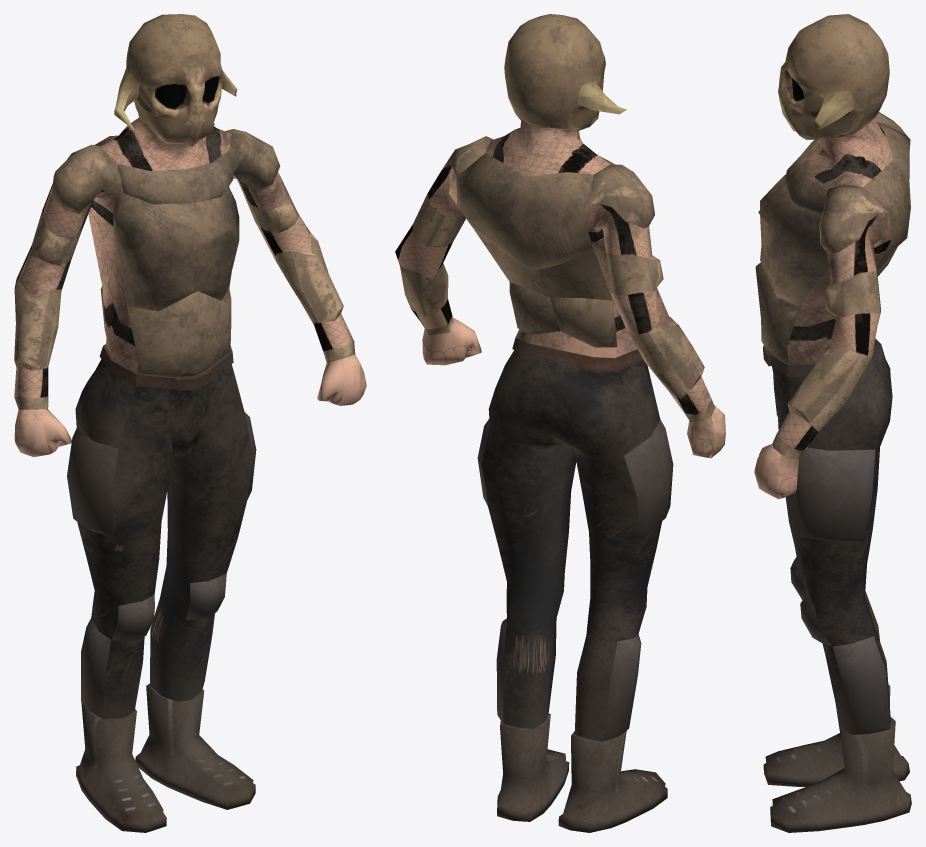
The model's file is Anim_interruptor_npc1.0017.obj.
The picture shows the model from 3 angles, left to right: view 1: azimuth 30°, elevation 25°; view 2: azimuth 150°, elevation 25°; view 3: azimuth 270°, elevation 25°; orthographic projection.
Parts seen in each view (by area): view 1: NPC2; view 2: NPC2; view 3: NPC2.
Part boxes in pixels (<box>): NPC2: <box>14,14,366,832</box>; NPC2: <box>395,14,725,832</box>; NPC2: <box>754,14,911,832</box>.
Bounding box in the file's own units: 4.18 × 9.6 × 1.74.
